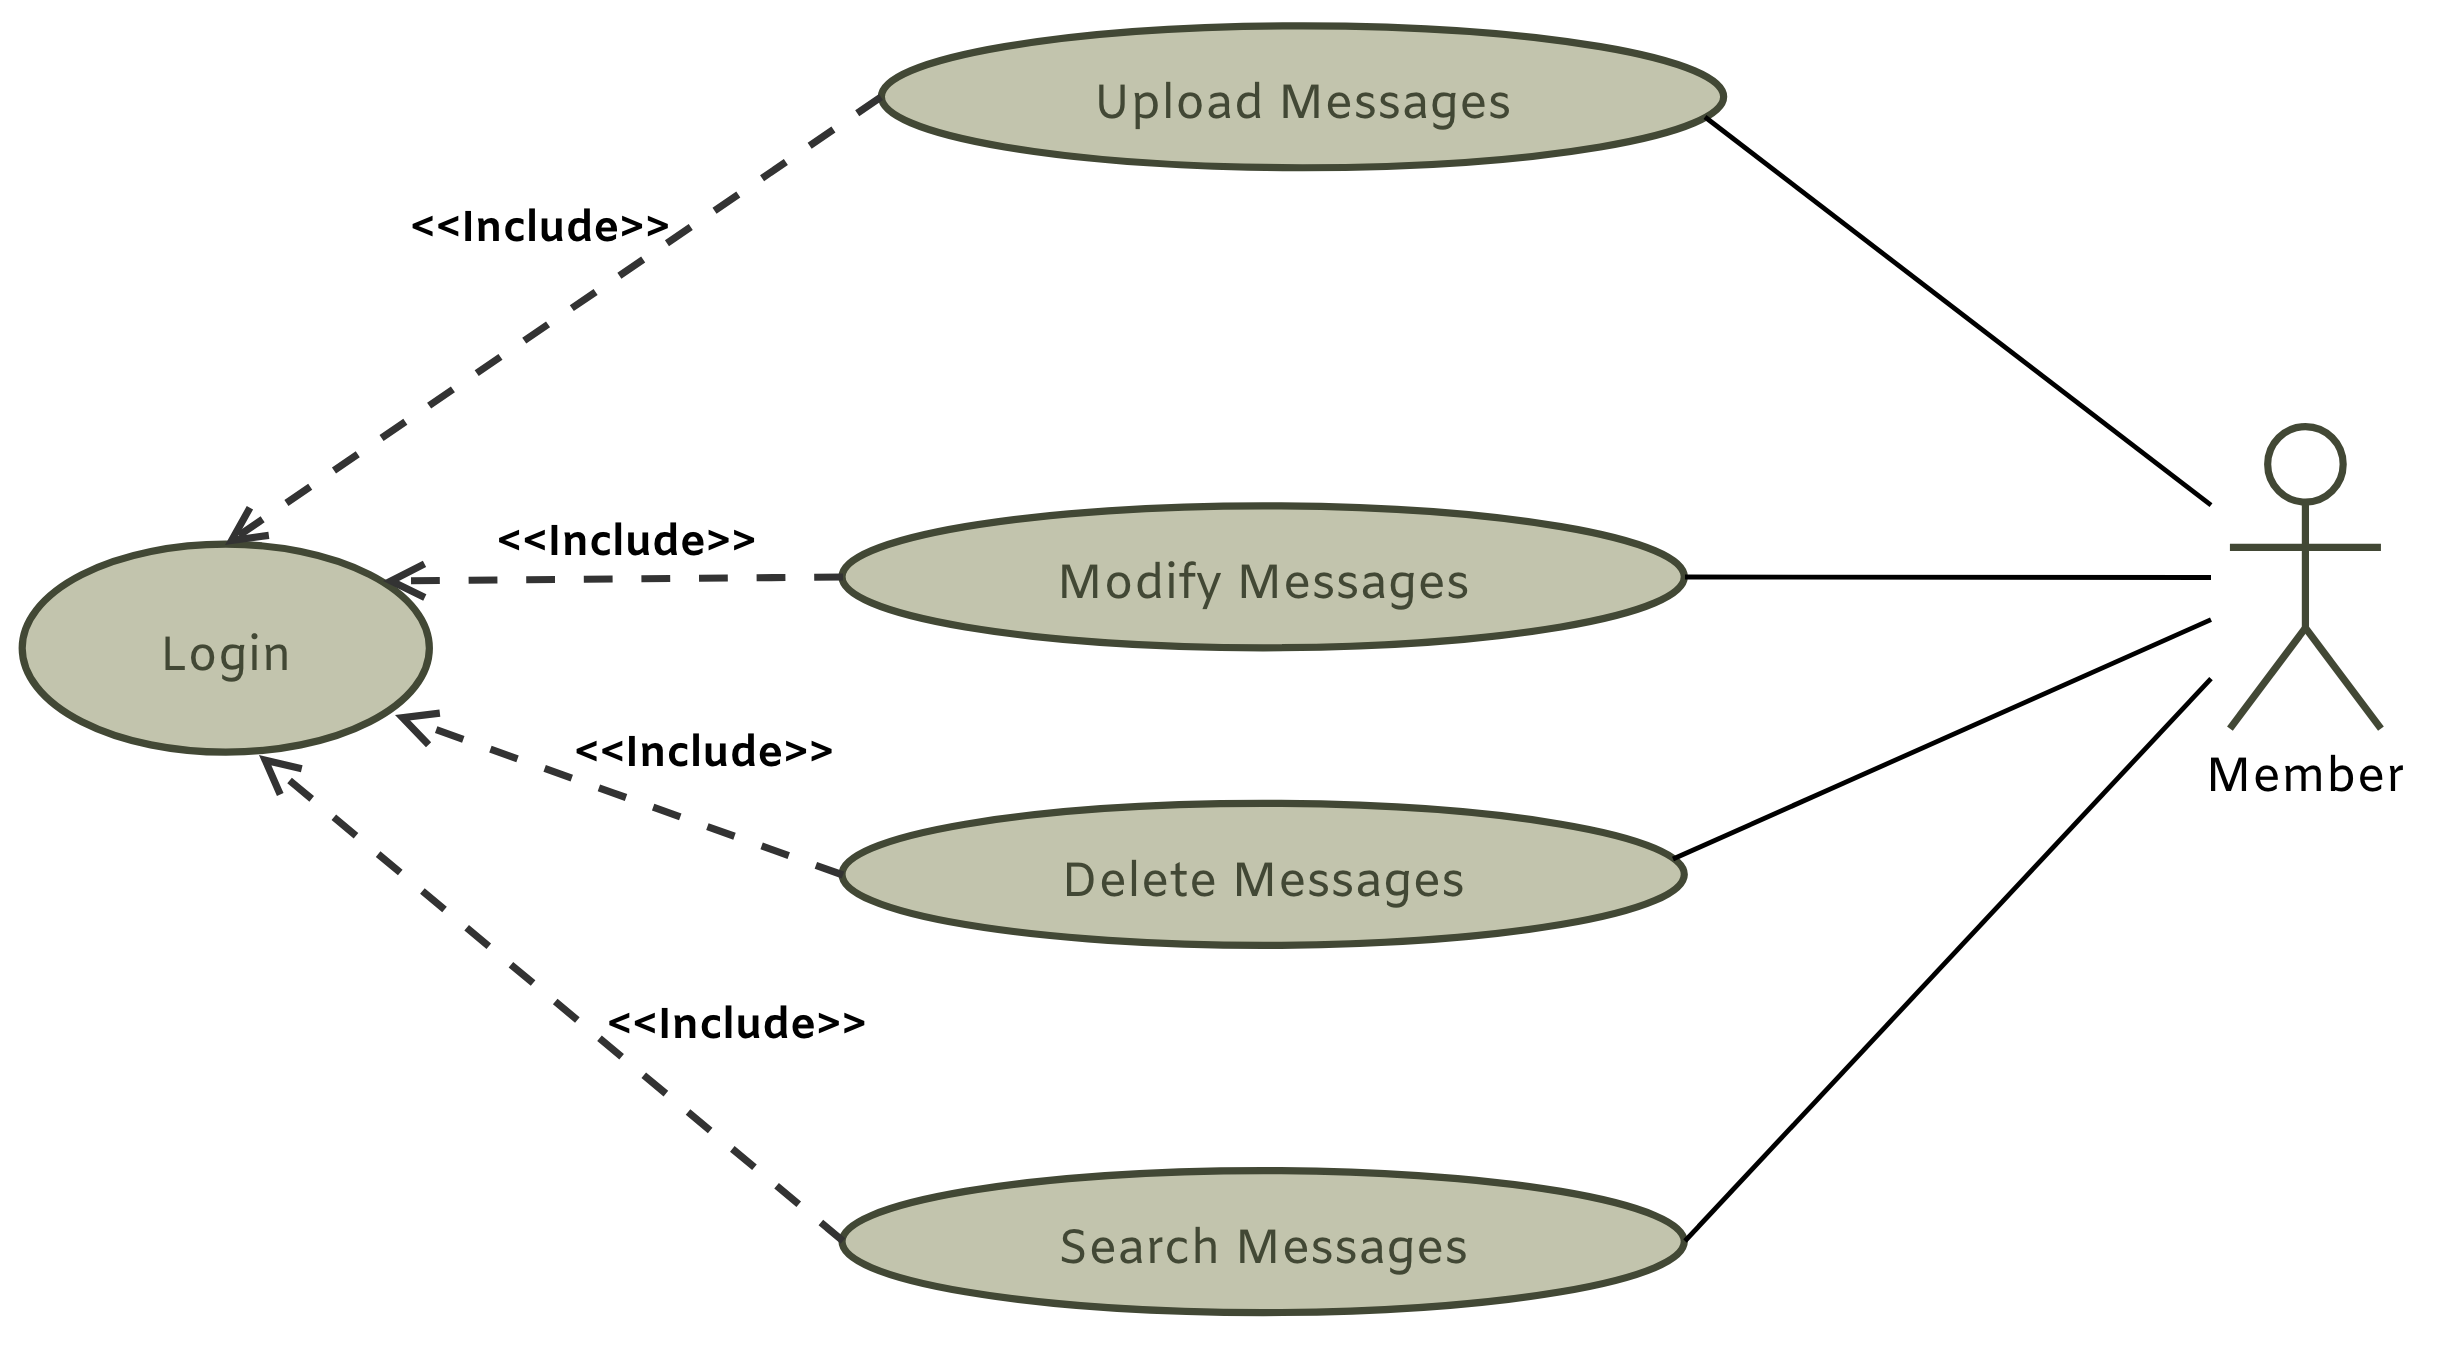actor: (2224, 421, 2399, 738)
association: (1686, 670, 2214, 1247), (228, 91, 888, 547), (256, 755, 848, 1244), (1706, 115, 2214, 509), (1676, 613, 2214, 861), (391, 708, 848, 879), (386, 560, 848, 600), (1682, 564, 2218, 590)
text: (1051, 841, 1480, 919), (1047, 545, 1481, 617), (1056, 1215, 1485, 1287), (1089, 73, 1524, 136), (497, 507, 756, 565), (574, 722, 838, 778), (407, 200, 668, 249), (2204, 746, 2415, 805), (602, 998, 878, 1041), (155, 625, 313, 690)
use_case: (838, 497, 1686, 657), (836, 1164, 1691, 1322), (840, 795, 1691, 953), (874, 22, 1731, 175), (13, 540, 436, 761)
